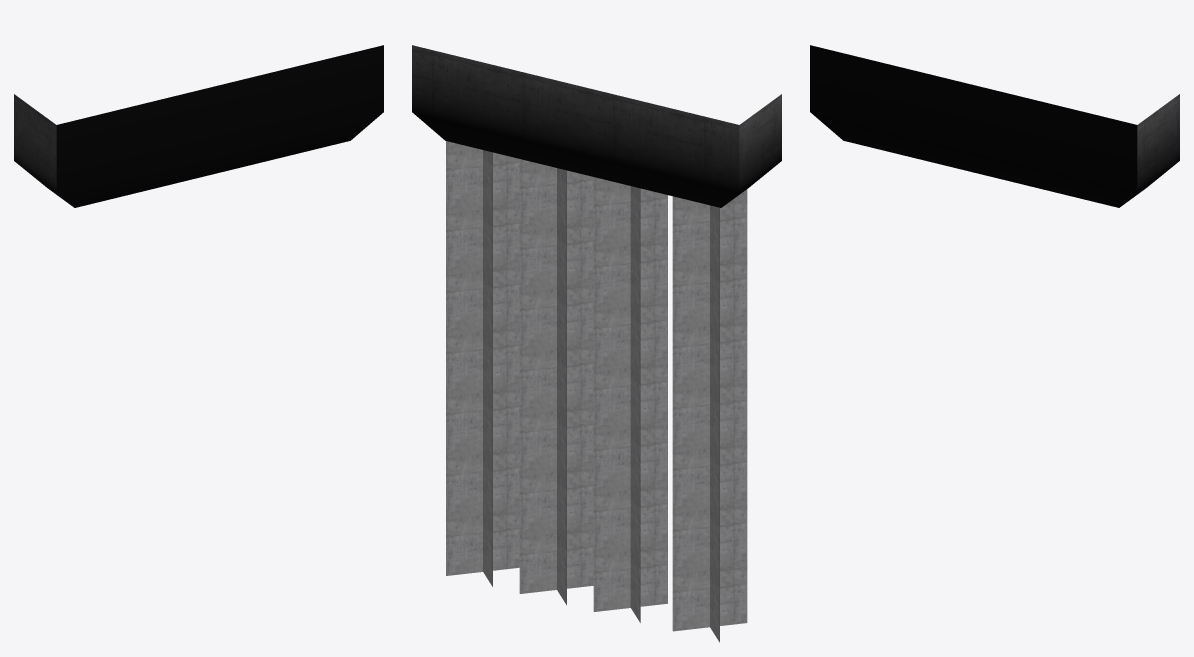
The model's file is AMB_4RAIL_CHU.glb.
3 renders of one model, left to right at view 1: azimuth 30°, elevation 25°; view 2: azimuth 150°, elevation 25°; view 3: azimuth 330°, elevation 25°, orthographic.
Parts seen in each view (by area): view 1: obj5; view 2: obj5; view 3: obj5.
Part boxes in pixels (box(x1,y1,x2,y2)): obj5: box(14, 45, 383, 207); obj5: box(412, 45, 781, 642); obj5: box(810, 45, 1179, 207).
Bounding box in the file's own units: 57.64 × 89.18 × 12.96.
Materials: 2 (2 with a texture image).
